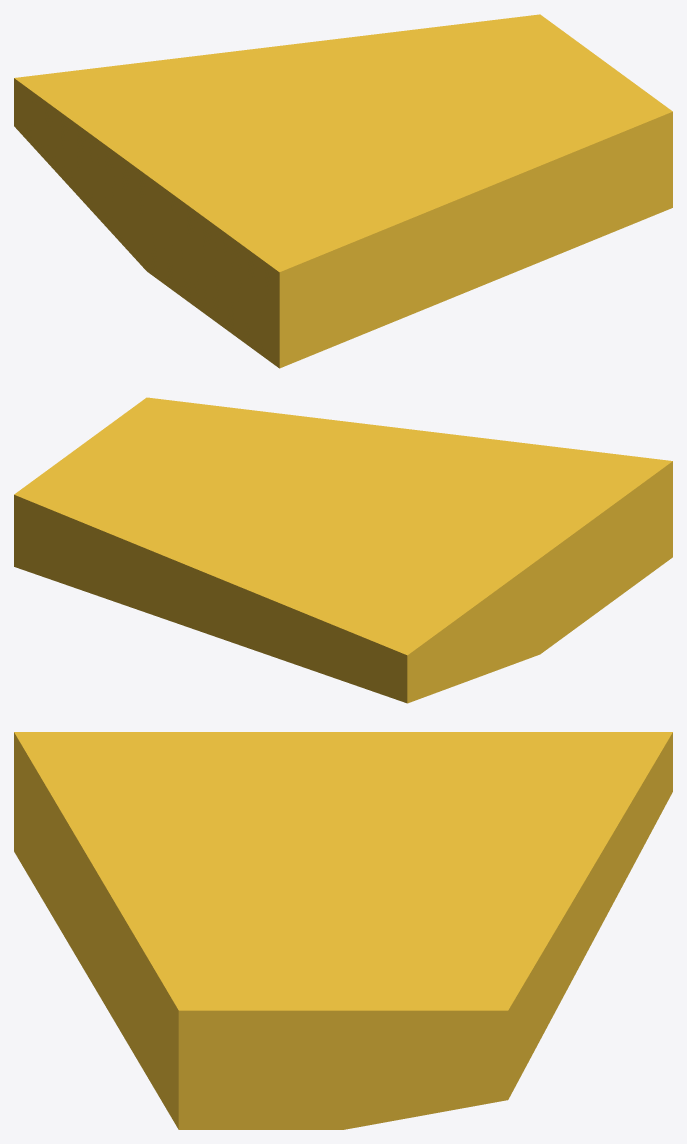
Rendered from flappy-bird-wing.fbx.
3 views of the same model, one above another, from view 1: azimuth 30°, elevation 25°; view 2: azimuth 150°, elevation 25°; view 3: azimuth 270°, elevation 25° (orthographic). The views are drawn at different scales.
Parts seen in each view (by area): view 1: wing_point; view 2: wing_point; view 3: wing_point.
Boxes of the visible parts, x1,y1,x2,y2 form: wing_point: (14, 14, 672, 368); wing_point: (14, 397, 672, 703); wing_point: (14, 732, 672, 1129).
Bounding box in the file's own units: 0.3 × 0.06 × 0.3.
